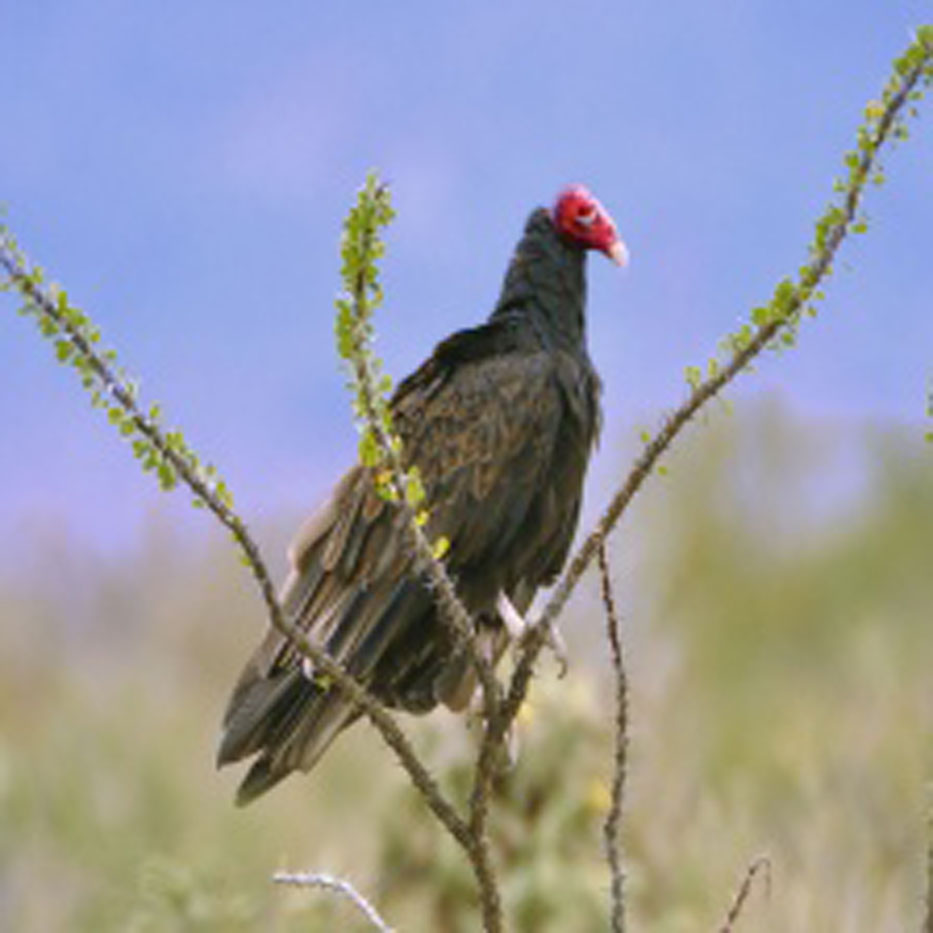Pengoyak Daging: (609, 238, 627, 273)
